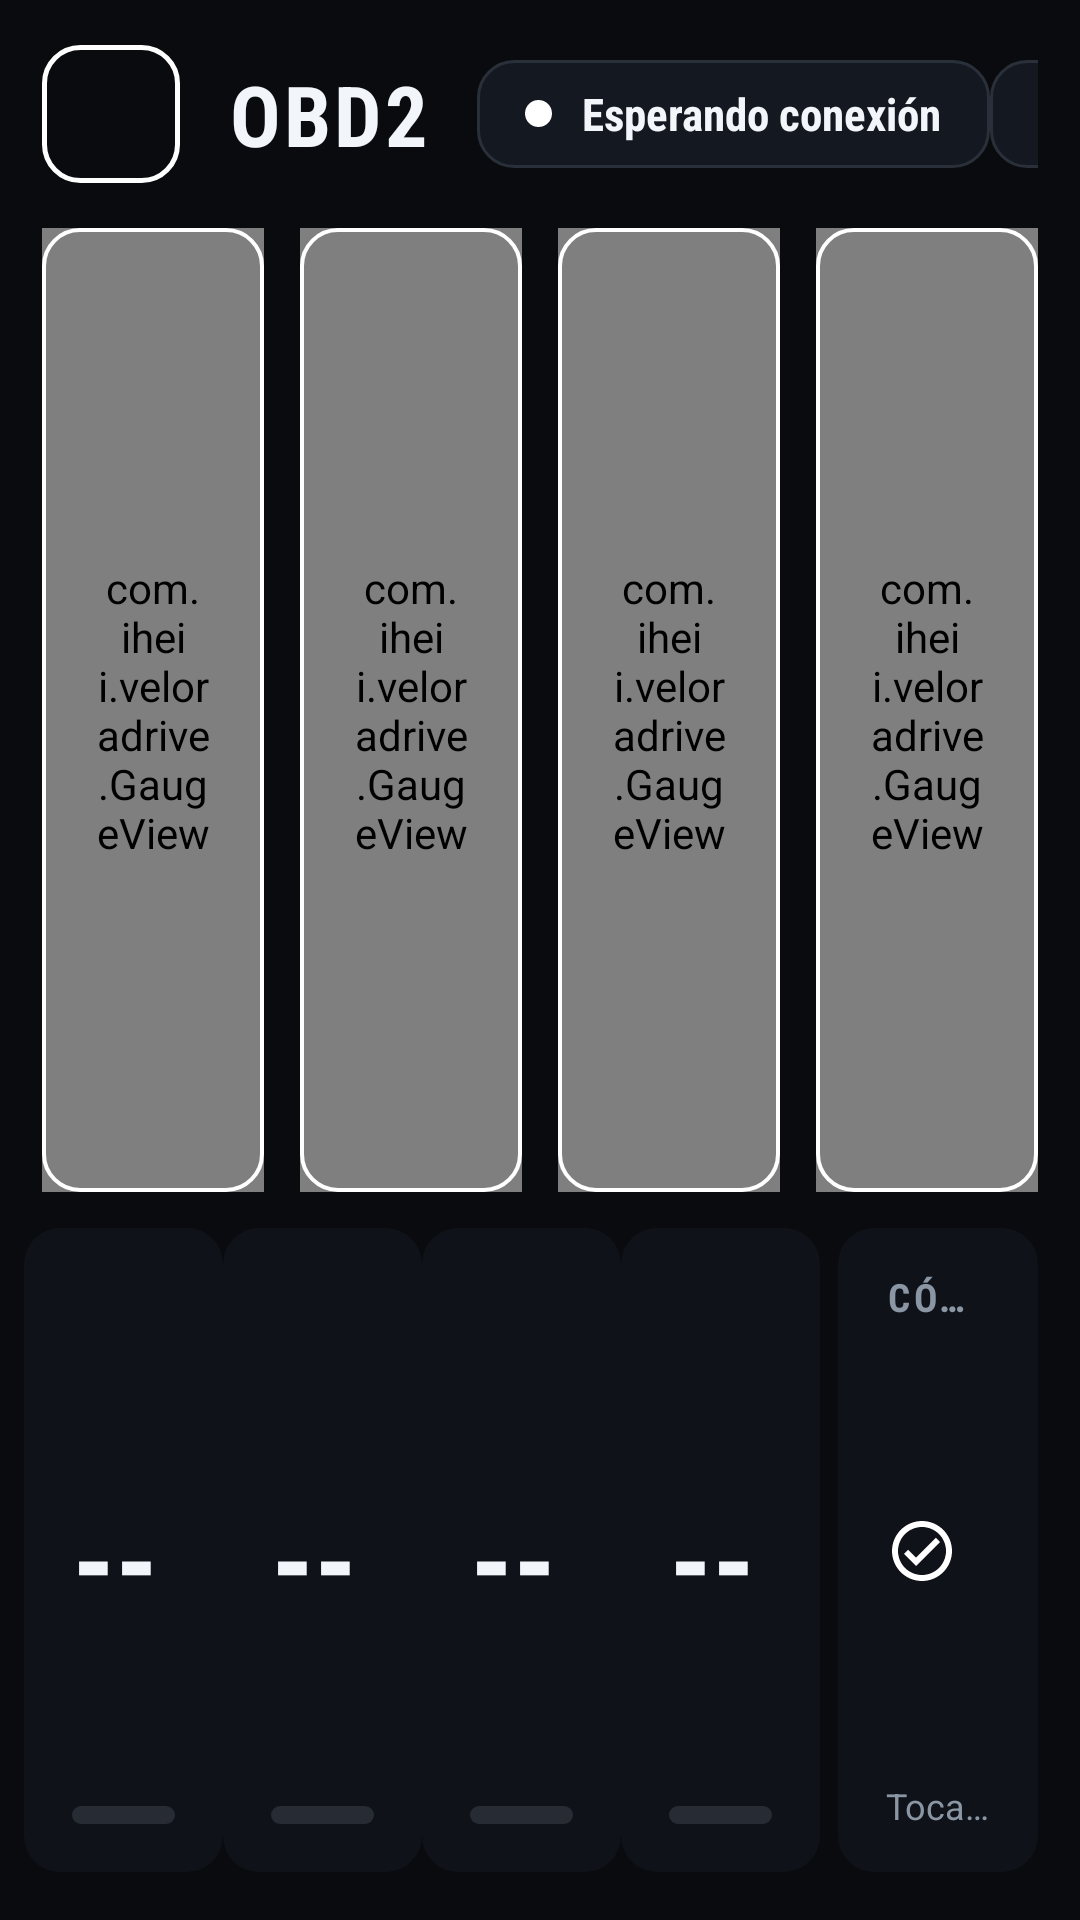

Point at icon controls on the screen. Image size 1080×1920, points as (x=x, y=y).
obd check: (x=922, y=1551)
